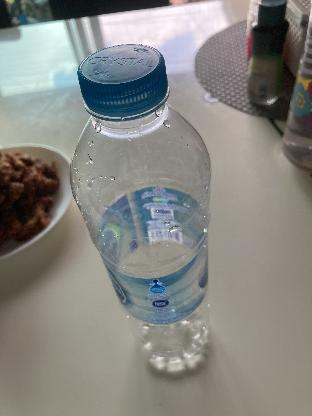Plastic Bottle: (66, 44, 214, 374)
